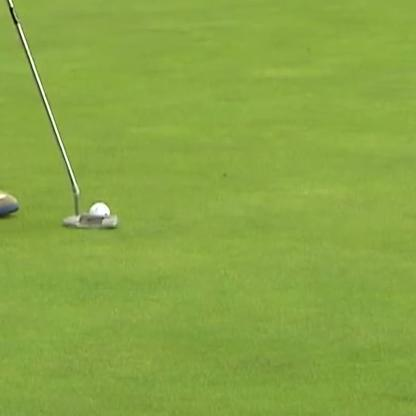golfball: (88, 200, 112, 219)
